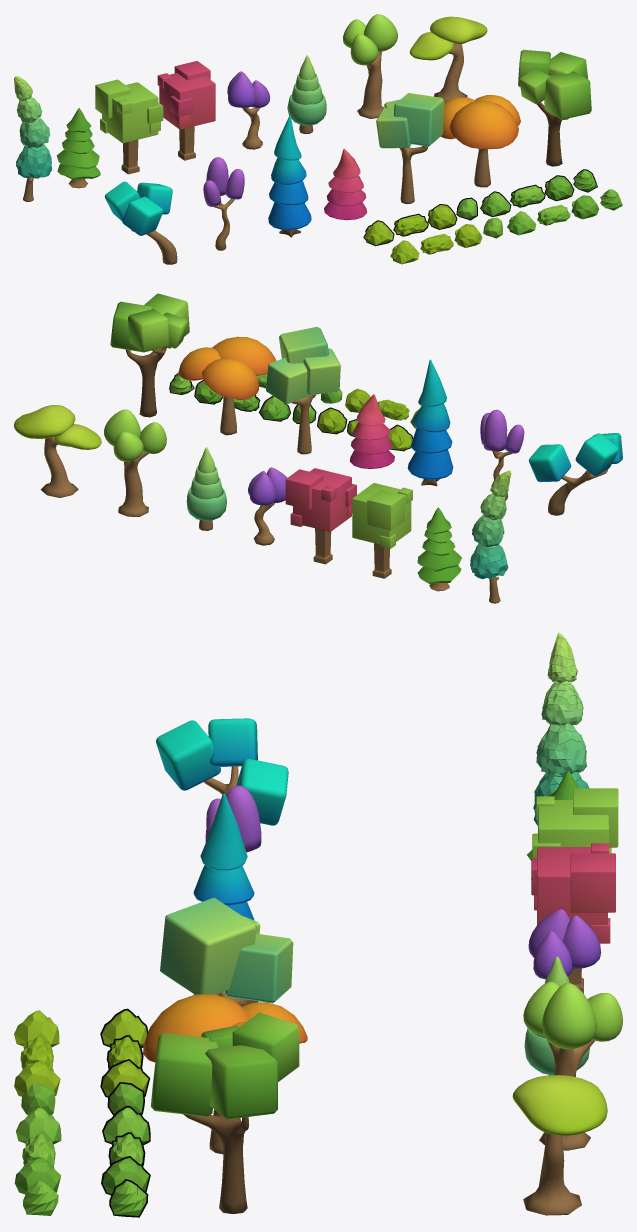
File: Trees Salefbx.fbx
3 renders of one model, top to bottom at view 1: azimuth 30°, elevation 25°; view 2: azimuth 150°, elevation 25°; view 3: azimuth 270°, elevation 25°, orthographic. The views are drawn at different scales.
Visible parts, largest first — view 1: Plane.006, Plane.014, Plane.002, Cube.004, Cube.002, Cone.002, Plane.012, Icosphere.001, Plane.013, Plane.015, Circle.001, Plane.011 (+15 smaller); view 2: Plane.002, Plane.006, Plane.014, Cube.002, Cube.004, Cone.002, Plane.013, Plane.012, Icosphere.001, Plane.015, Circle.001, Plane.011 (+7 smaller); view 3: Plane.006, Plane.002, Plane.012, Plane.013, Cube.002, Icosphere.001, Plane.015, Cube.004, Plane.014, Cone.002, Icosphere.011, Plane.009 (+12 smaller).
Boxes of the visible parts, x1=… form: Plane.006: x1=518, y1=49, x2=591, y2=166; Plane.014: x1=441, y1=95, x2=520, y2=187; Plane.002: x1=376, y1=93, x2=444, y2=204; Cube.004: x1=95, y1=79, x2=163, y2=174; Cube.002: x1=157, y1=61, x2=215, y2=160; Cone.002: x1=268, y1=115, x2=311, y2=237; Plane.012: x1=104, y1=181, x2=177, y2=264; Icosphere.001: x1=343, y1=14, x2=397, y2=118; Plane.013: x1=409, y1=16, x2=487, y2=102; Plane.015: x1=14, y1=76, x2=51, y2=201; Circle.001: x1=56, y1=108, x2=100, y2=188; Plane.011: x1=324, y1=148, x2=367, y2=220; Plane.002: x1=266, y1=326, x2=340, y2=454; Plane.006: x1=110, y1=293, x2=189, y2=417; Plane.014: x1=178, y1=336, x2=276, y2=435; Cube.002: x1=285, y1=468, x2=356, y2=564; Cube.004: x1=352, y1=483, x2=412, y2=578; Cone.002: x1=407, y1=359, x2=453, y2=486; Plane.013: x1=14, y1=405, x2=101, y2=497; Plane.012: x1=528, y1=433, x2=622, y2=515; Icosphere.001: x1=104, y1=409, x2=166, y2=516; Plane.015: x1=470, y1=470, x2=511, y2=603; Circle.001: x1=417, y1=507, x2=461, y2=591; Plane.011: x1=350, y1=394, x2=394, y2=468; Plane.006: x1=151, y1=1012, x2=299, y2=1213; Plane.002: x1=160, y1=897, x2=293, y2=1006; Plane.012: x1=156, y1=718, x2=288, y2=825; Plane.013: x1=512, y1=1075, x2=607, y2=1215; Cube.002: x1=531, y1=843, x2=615, y2=993; Icosphere.001: x1=523, y1=981, x2=622, y2=1150; Plane.015: x1=533, y1=632, x2=589, y2=825; Cube.004: x1=532, y1=788, x2=618, y2=857; Plane.014: x1=143, y1=994, x2=307, y2=1154; Cone.002: x1=193, y1=793, x2=254, y2=920; Icosphere.011: x1=528, y1=909, x2=601, y2=979; Plane.009: x1=205, y1=785, x2=261, y2=852.
Bounding box in the file's own units: 2191 × 564 × 1427.
Materials: 16 (15 with a texture image).
